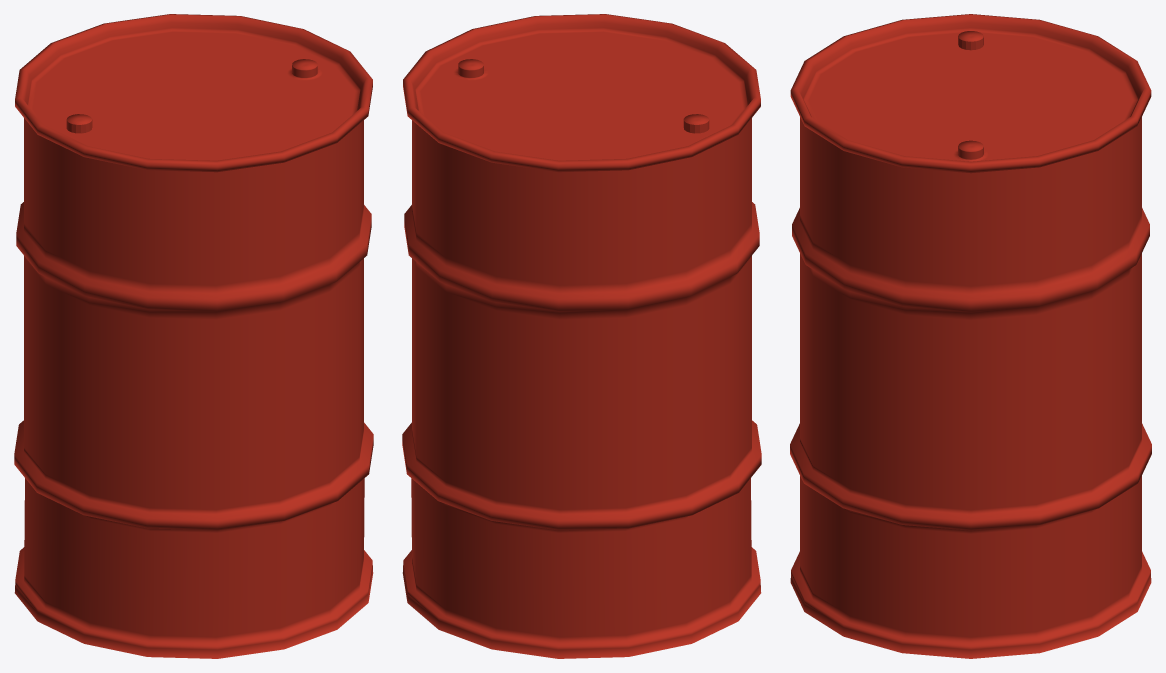
Rendered from red oil drum.glb.
3 views of the same model, side by side, from view 1: azimuth 30°, elevation 25°; view 2: azimuth 150°, elevation 25°; view 3: azimuth 270°, elevation 25° (orthographic).
Visible parts, largest first — view 1: Red OIl Drum; view 2: Red OIl Drum; view 3: Red OIl Drum.
Part boxes in pixels (left/top/right/bottom): Red OIl Drum: left=14, top=14, right=373, bottom=658; Red OIl Drum: left=402, top=14, right=761, bottom=658; Red OIl Drum: left=790, top=14, right=1151, bottom=658.
Size of the model in its own units: 0.3923 by 0.5929 by 0.3923.
